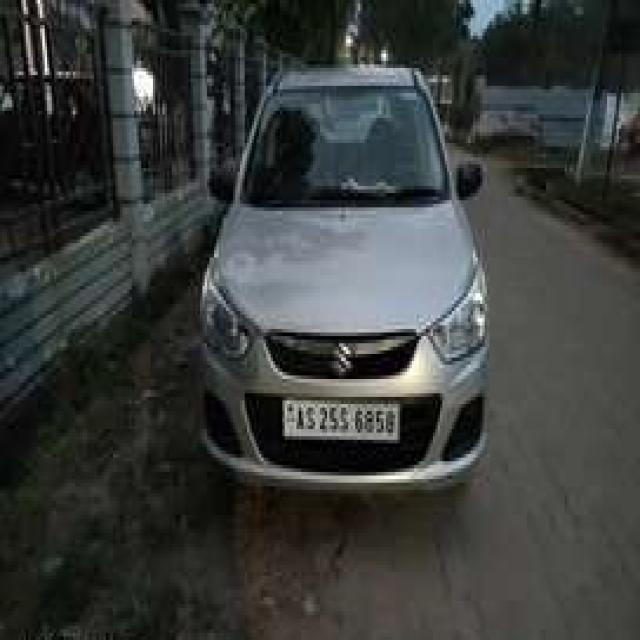license-plate: (280, 393, 398, 433)
